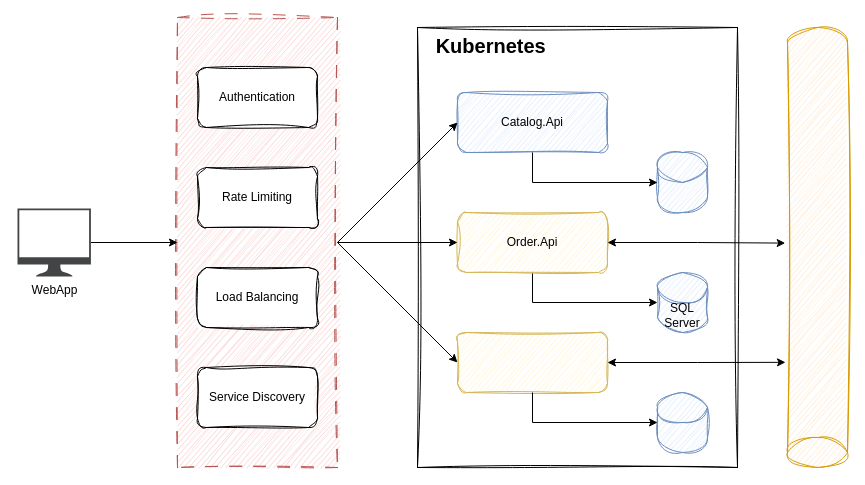
This 865x485 diagram has some shape labels left out. The shapes that lost their labels are listed below. From the top down, each one's box as (x1, y1, x2, y2) in pixels, then its label:
(656, 152, 708, 212): MongoDb
(176, 16, 338, 468): API Gateway
(786, 26, 848, 468): RabbitMQ
(456, 332, 608, 392): Logistic.Api
(656, 392, 708, 452): MySQL
